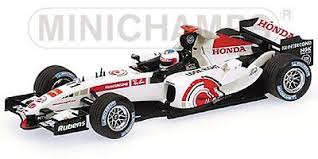FormulaOneCar: (2, 15, 312, 143)
